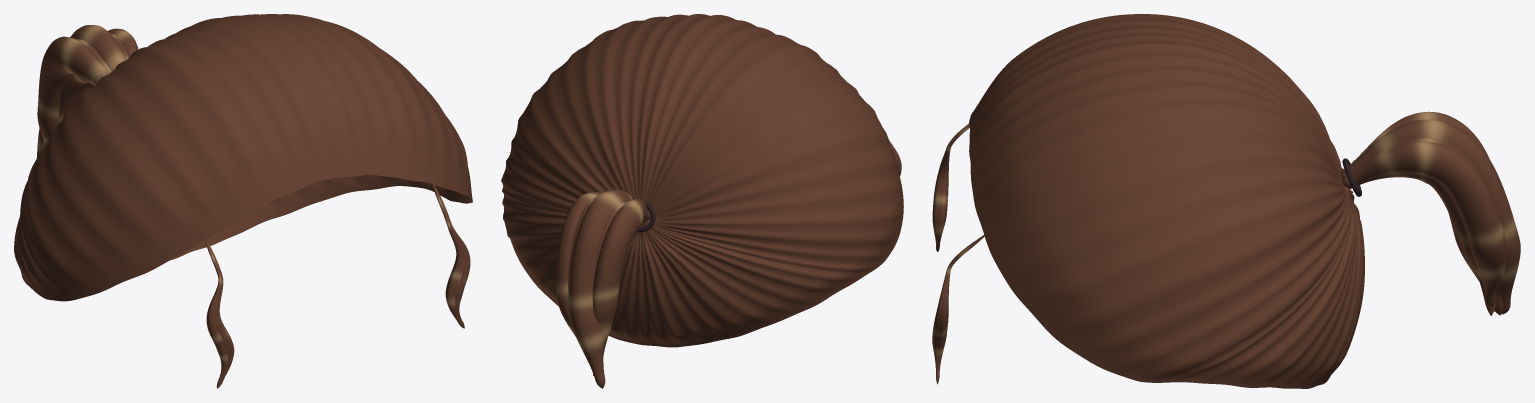
Rendered from Highlights-16ae3440c514252-hair.glb.
The picture shows the model from 3 angles, left to right: view 1: azimuth 30°, elevation 25°; view 2: azimuth 150°, elevation 25°; view 3: azimuth 270°, elevation 25°; orthographic projection. The views are drawn at different scales.
Parts seen in each view (by area): view 1: Hair / swept roots220, Hair / rounded tail220 0, Hair / adjustable front216 1, Hair / adjustable front216 -1, Hair / rounded tail220 2, Hair / rounded tail220 1; view 2: Hair / swept roots220, Hair / rounded tail220 2, Hair / rounded tail220 0, Hair / rounded tail220 4, Hair / rounded tail220 1; view 3: Hair / swept roots220, Hair / rounded tail220 4, Hair / rounded tail220 2, Hair / rounded tail220 3, Hair / adjustable front216 1, Hair / adjustable front216 -1, Hair / rounded tail220 0.
Part boxes in pixels (<box>): Hair / swept roots220: <box>14,14,472,301</box>; Hair / rounded tail220 0: <box>37,36,108,142</box>; Hair / adjustable front216 1: <box>432,182,470,328</box>; Hair / adjustable front216 -1: <box>204,238,234,388</box>; Hair / rounded tail220 2: <box>36,25,125,158</box>; Hair / rounded tail220 1: <box>43,38,111,146</box>; Hair / swept roots220: <box>501,14,903,347</box>; Hair / rounded tail220 2: <box>569,189,632,388</box>; Hair / rounded tail220 0: <box>592,198,650,375</box>; Hair / rounded tail220 4: <box>556,192,601,336</box>; Hair / rounded tail220 1: <box>594,200,646,353</box>; Hair / swept roots220: <box>969,14,1364,388</box>; Hair / rounded tail220 4: <box>1343,141,1506,306</box>; Hair / rounded tail220 2: <box>1341,119,1520,314</box>; Hair / rounded tail220 3: <box>1343,138,1507,296</box>; Hair / adjustable front216 1: <box>932,233,985,384</box>; Hair / adjustable front216 -1: <box>932,124,969,251</box>; Hair / rounded tail220 0: <box>1341,111,1496,315</box>.
Bounding box in the file's own units: 0.9758 × 0.6634 × 1.1.
9 materials, 8 textured.
